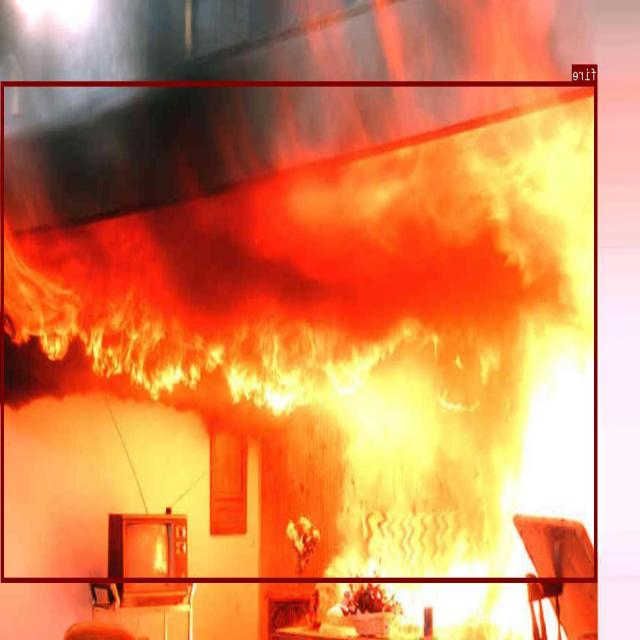fire: (2, 81, 598, 581)
